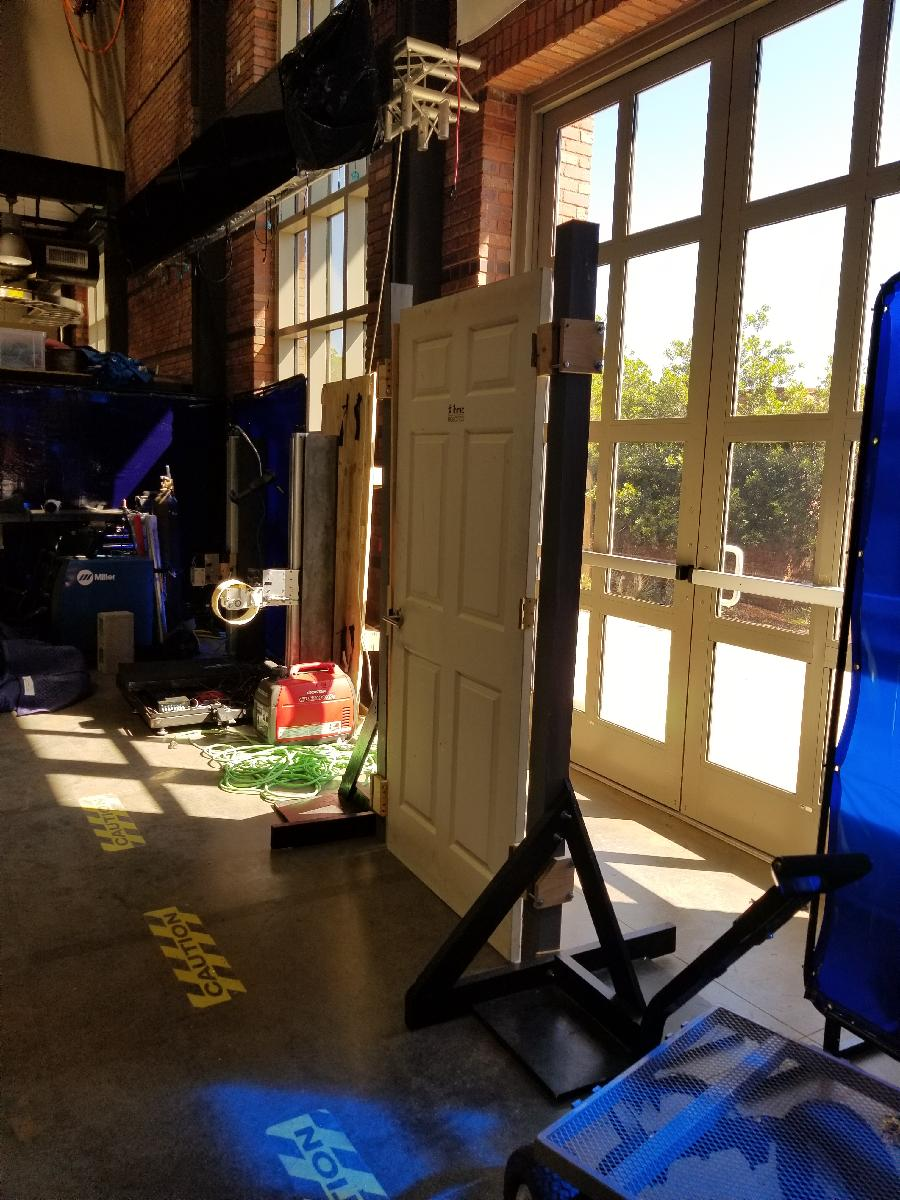door: (382, 261, 553, 978)
doorHandle: (376, 606, 411, 637)
